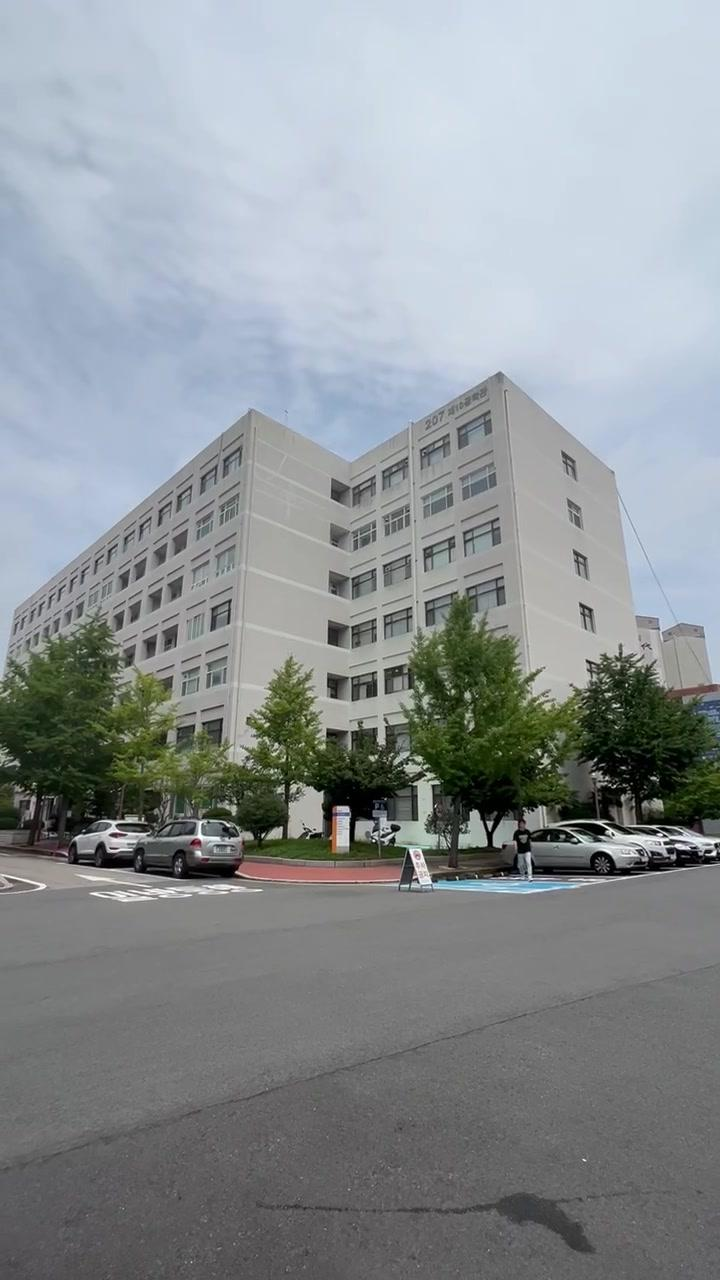building: (96, 376, 622, 638)
